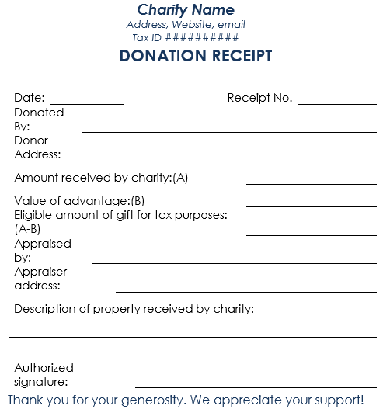textline: (5, 317, 378, 341), (90, 241, 379, 266), (133, 362, 378, 391), (94, 140, 378, 165), (78, 113, 378, 136), (113, 272, 378, 296), (243, 167, 378, 188), (244, 187, 379, 208), (245, 216, 380, 237), (295, 88, 379, 109), (47, 89, 129, 107)
